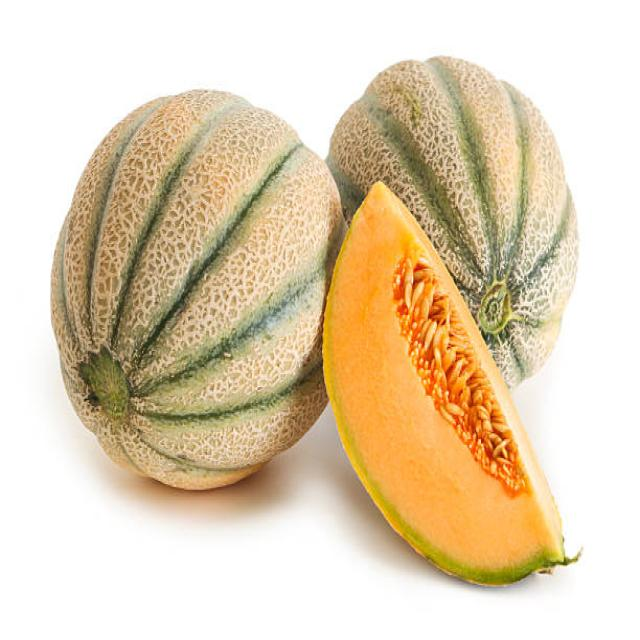cantaloupe: (49, 92, 345, 493), (323, 180, 566, 588), (329, 54, 577, 391)
